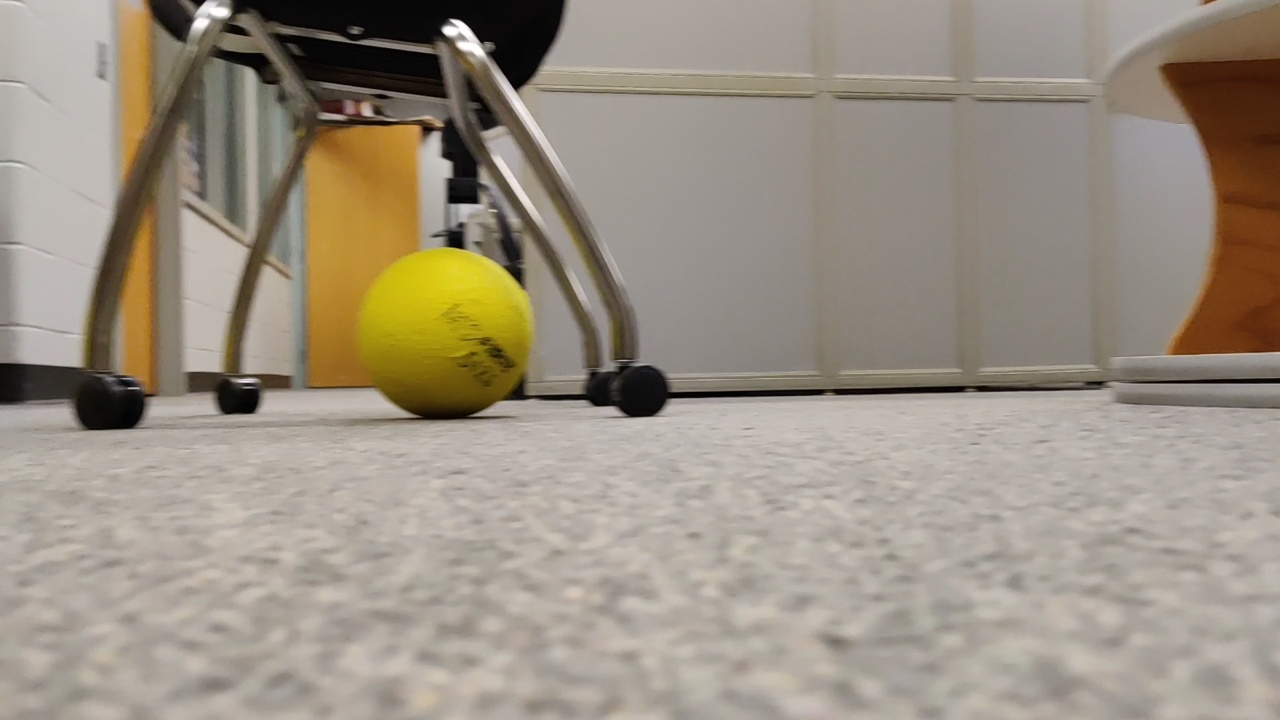Ball: (361, 246, 533, 413)
